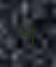four: (19, 20, 35, 46)
